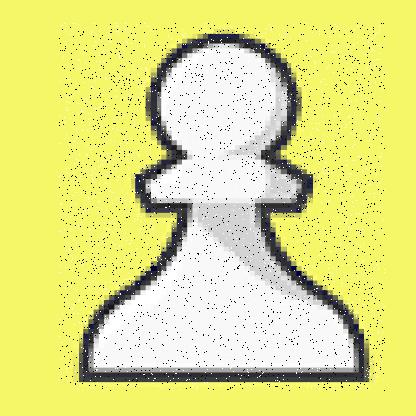White Pawn: (59, 23, 386, 392)
